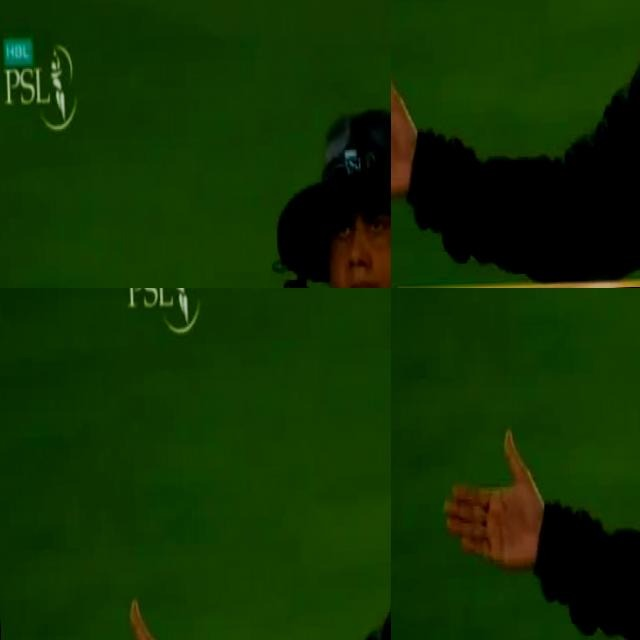No_Action: (492, 288, 617, 640), (0, 0, 120, 288)
No_Ball: (56, 292, 391, 640)
Six: (391, 0, 640, 276)
